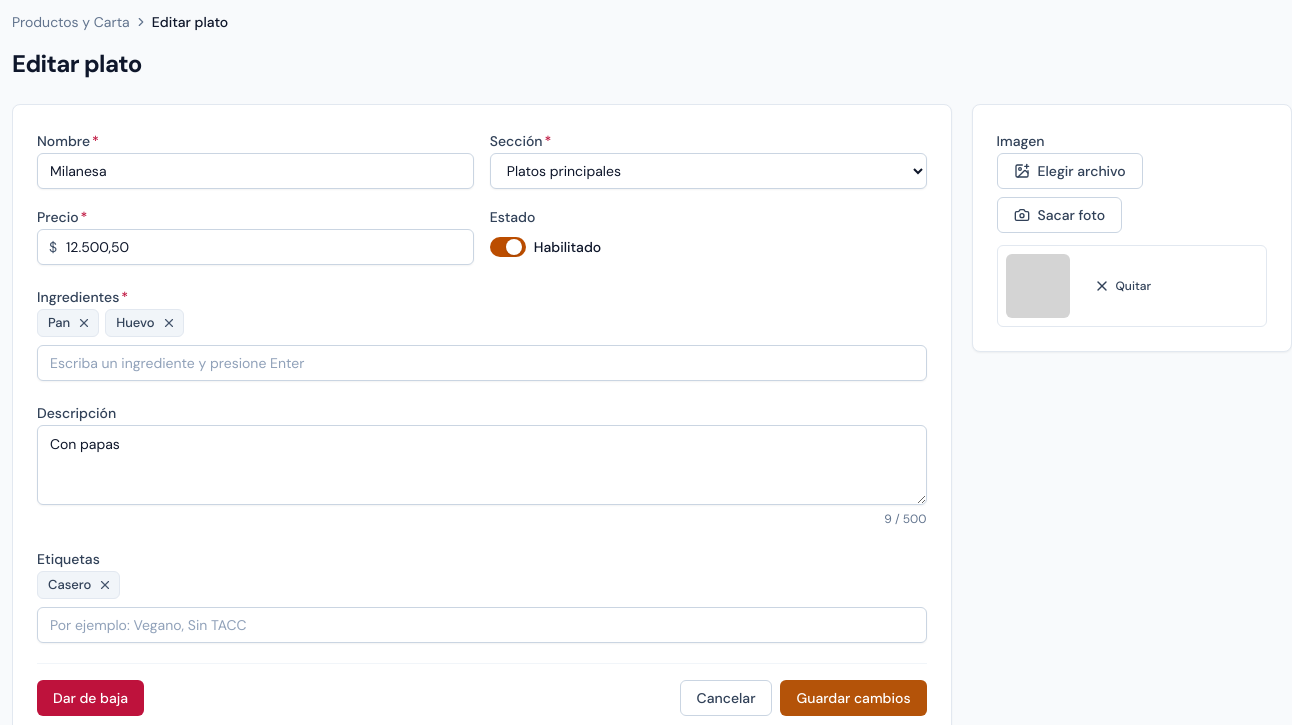
Scenario: ProductoEditarPage: errores al guardar › con errores locales no envía y marca cada campo
The width and height of the screenshot is (1292, 725).
Check: the field showing "Milanesa" is shown, box 37,153 -> 474,189
Replace the text in the field labelled "Precio*" with "abc": (255, 247) 37,229 -> 474,265
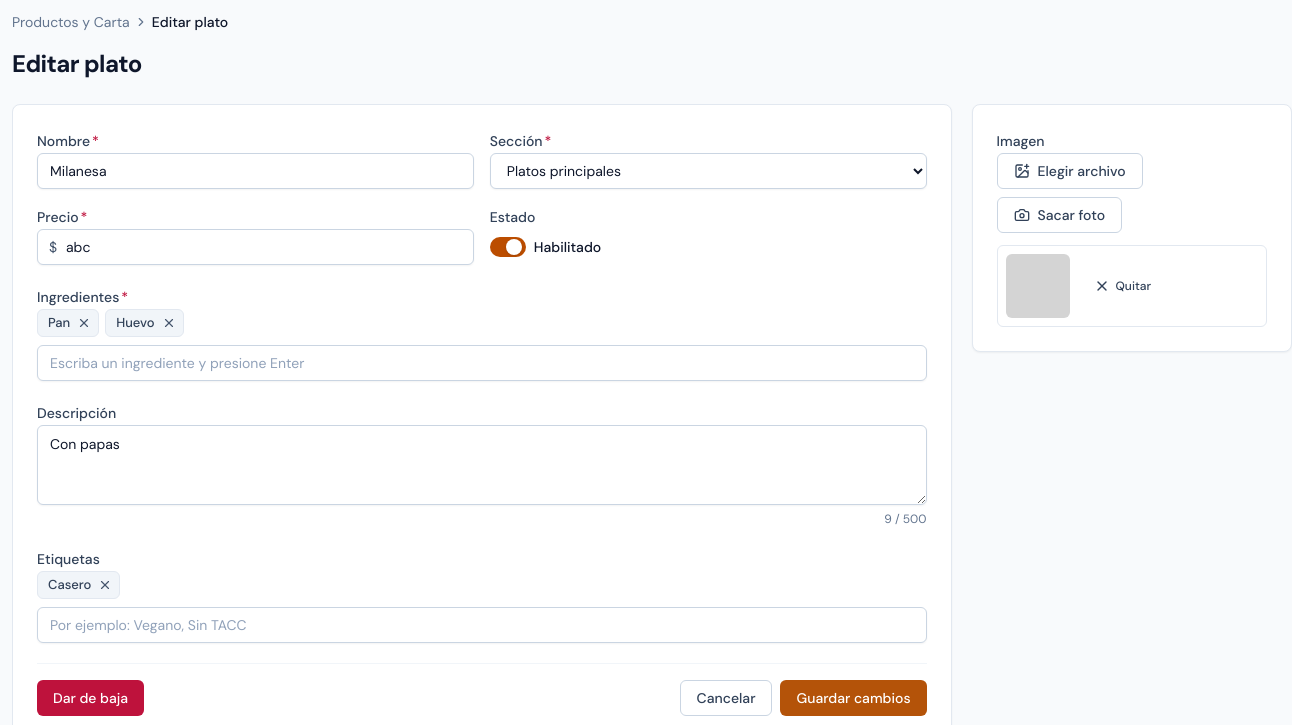
Clear the field labelled "Nombre*": (255, 171) 37,153 -> 474,189
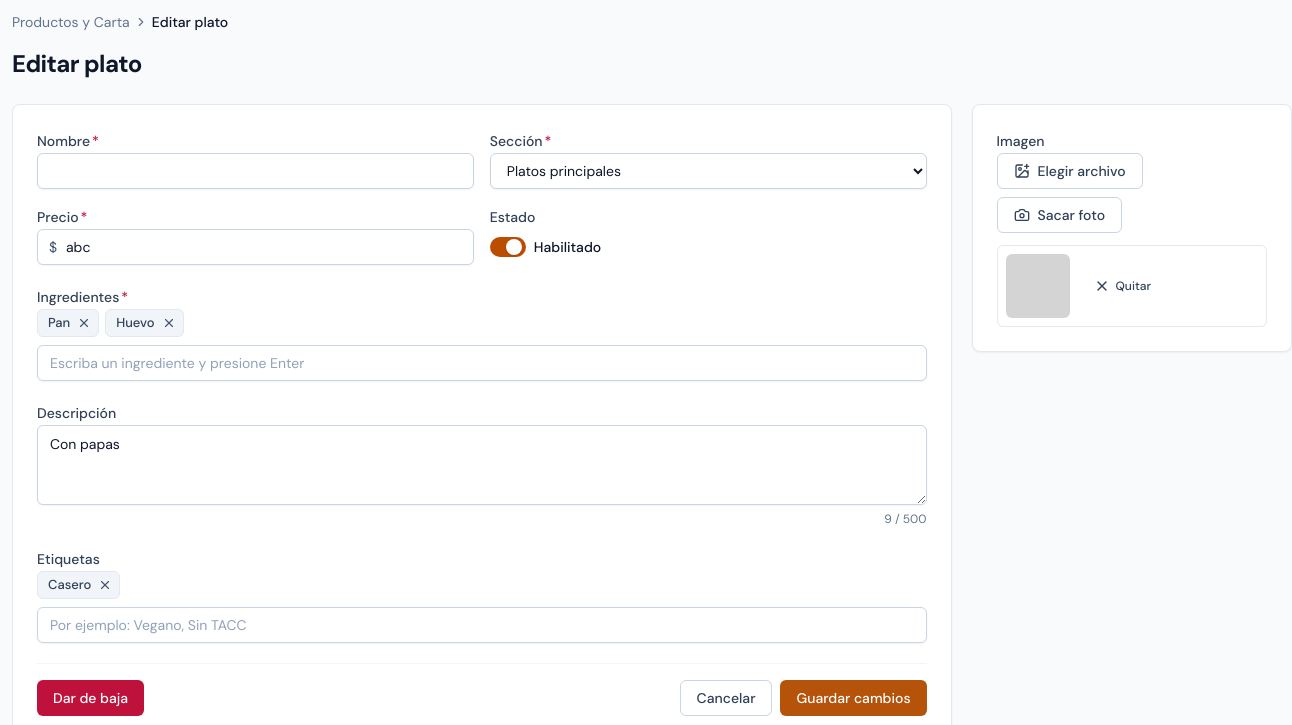
Click the button "Guardar cambios": (854, 698) 780,680 -> 927,716
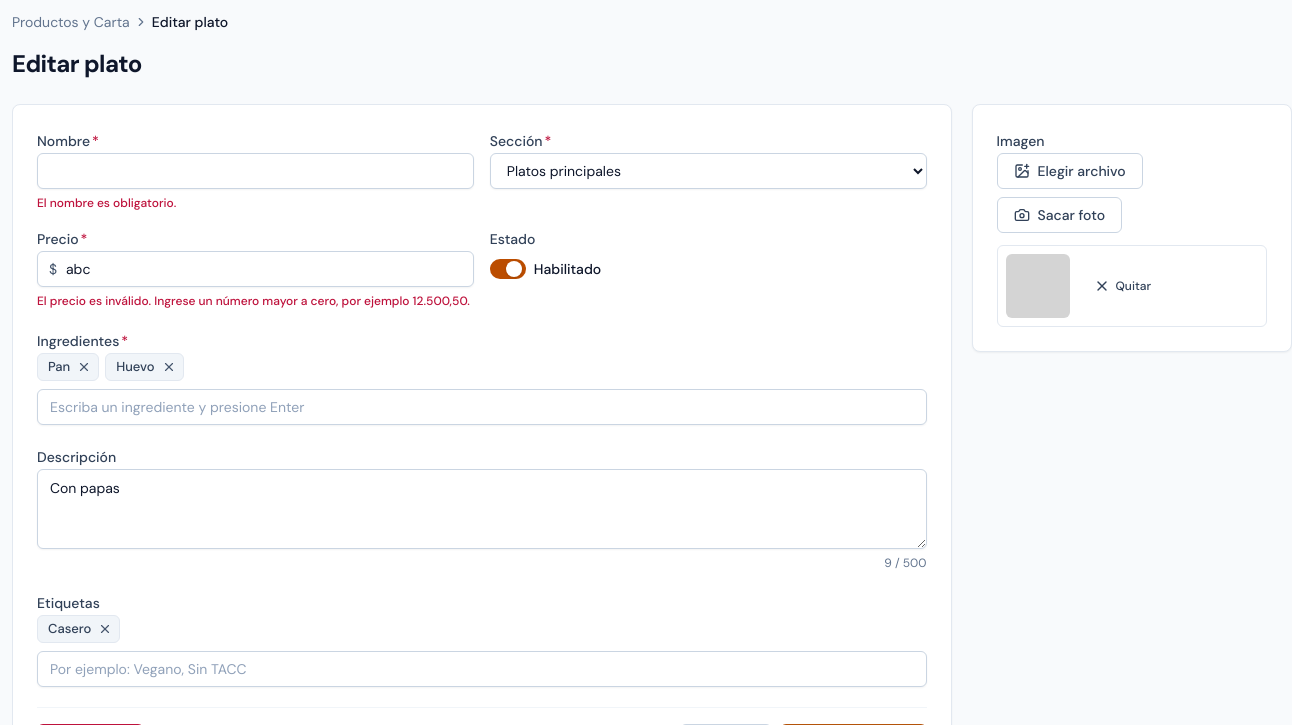
Check: the text "El nombre es obligatorio." is shown, box 37,195 -> 176,211
Check: the text "El precio es inválido. Ingrese un número mayor a cero, por ejemplo 12.500,50." is shown, box 37,293 -> 474,309
